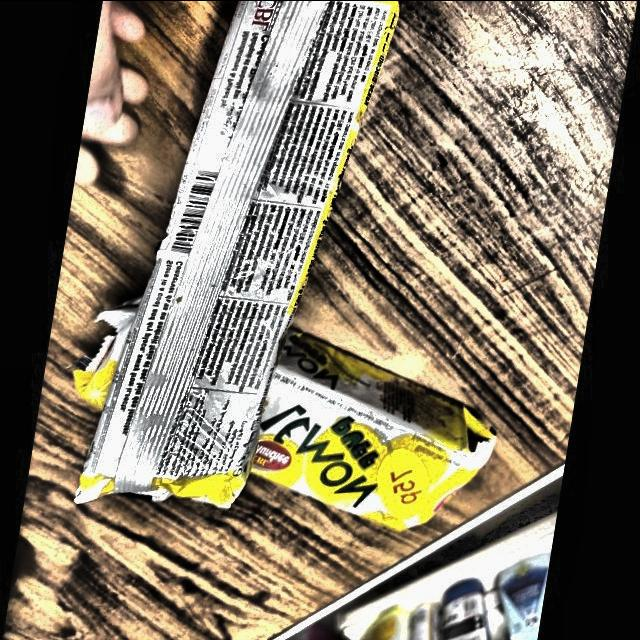lemon puff: (78, 0, 414, 510), (62, 308, 486, 526)
